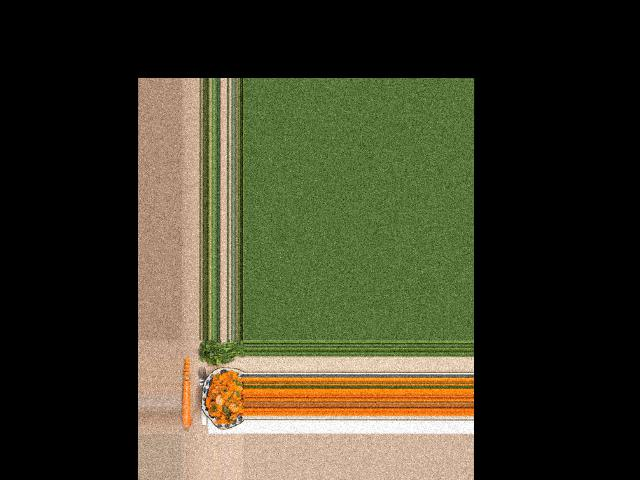carrot: (180, 380, 190, 429)
